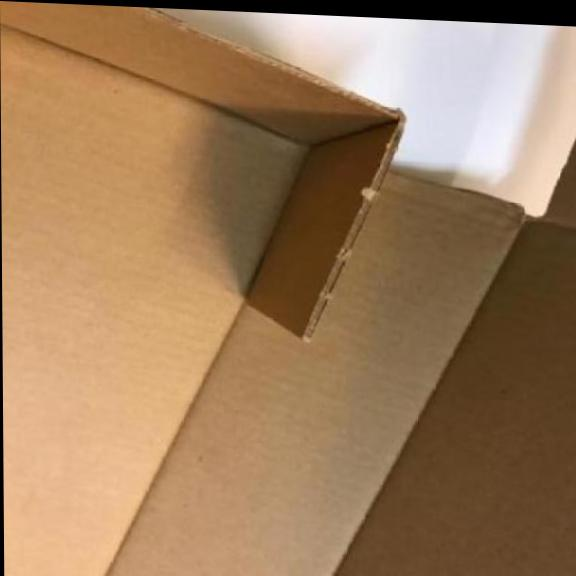Kertas: (0, 2, 576, 576), (0, 1, 523, 576)
